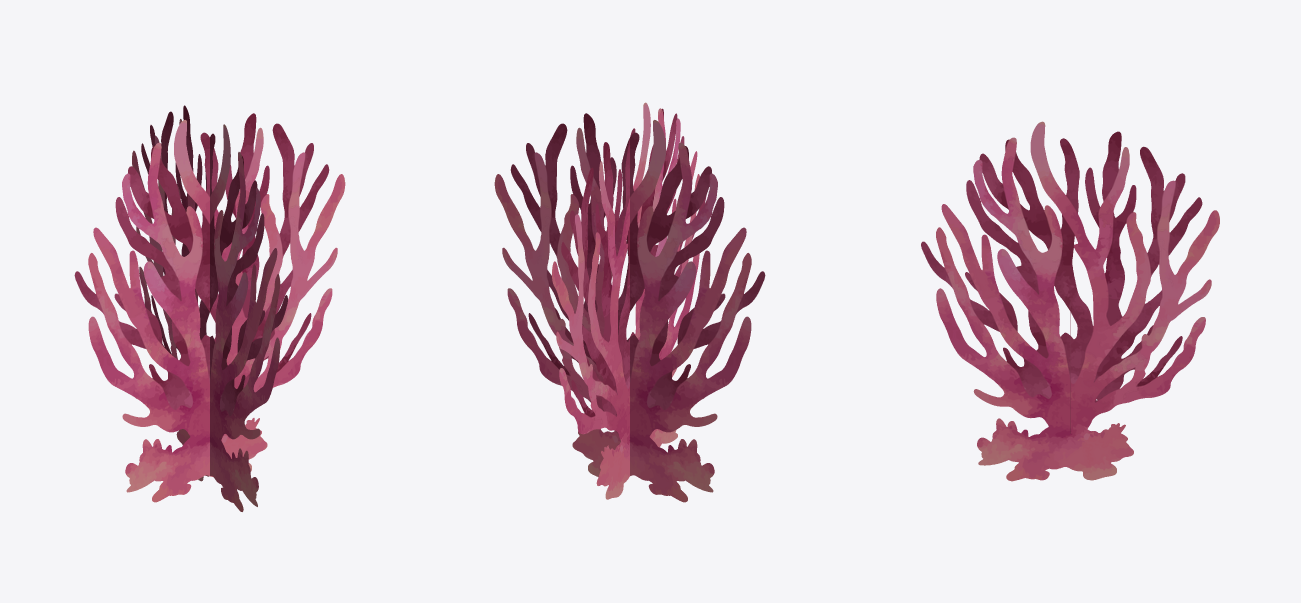
The model's file is Coral.fbx.
3 renders of one model, left to right at view 1: azimuth 30°, elevation 25°; view 2: azimuth 150°, elevation 25°; view 3: azimuth 270°, elevation 25°, orthographic. The views are drawn at different scales.
Visible parts, largest first — view 1: Plane.002; view 2: Plane.002; view 3: Plane.002.
Part boxes in pixels (x1=…): Plane.002: x1=74, y1=105, x2=345, y2=511; Plane.002: x1=494, y1=102, x2=765, y2=502; Plane.002: x1=921, y1=121, x2=1219, y2=481.
Bounding box in the file's own units: 516 × 516 × 516.
Materials: 1 (1 with a texture image).
